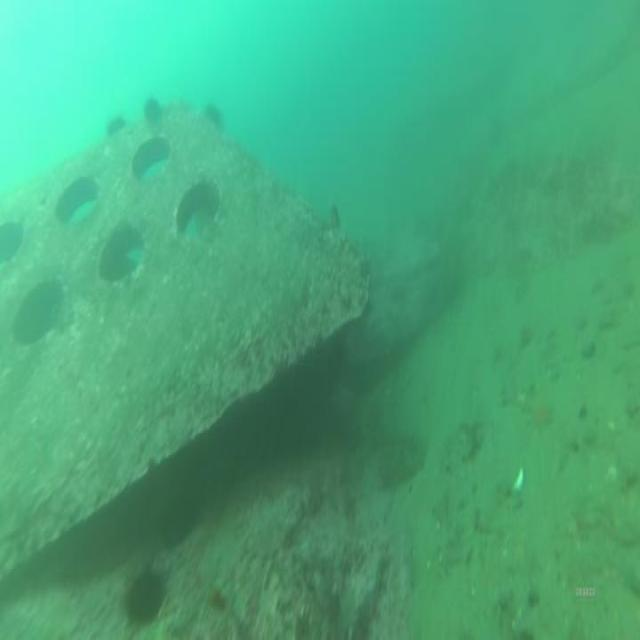echinus: (143, 98, 165, 130), (105, 109, 126, 141), (203, 101, 223, 133)
starfish: (126, 564, 166, 631), (529, 402, 555, 436)
